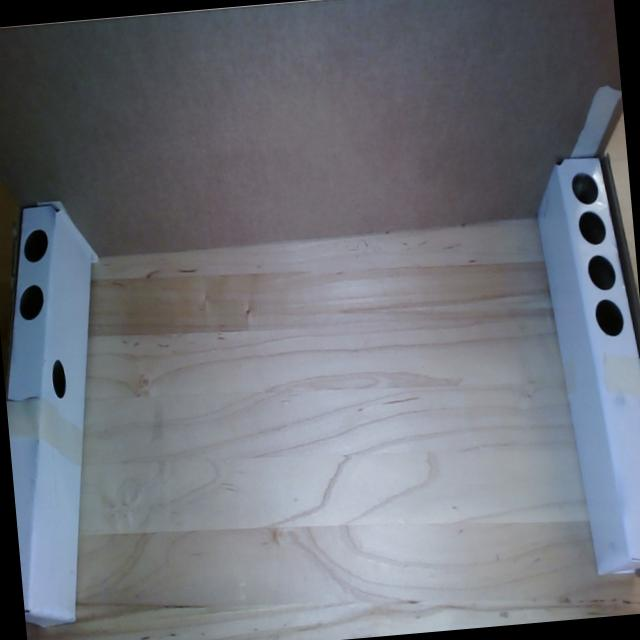Hole: (595, 296, 626, 336), (21, 225, 50, 267), (578, 208, 608, 248), (584, 252, 616, 289), (17, 280, 45, 322), (570, 169, 600, 206), (50, 357, 66, 398)
